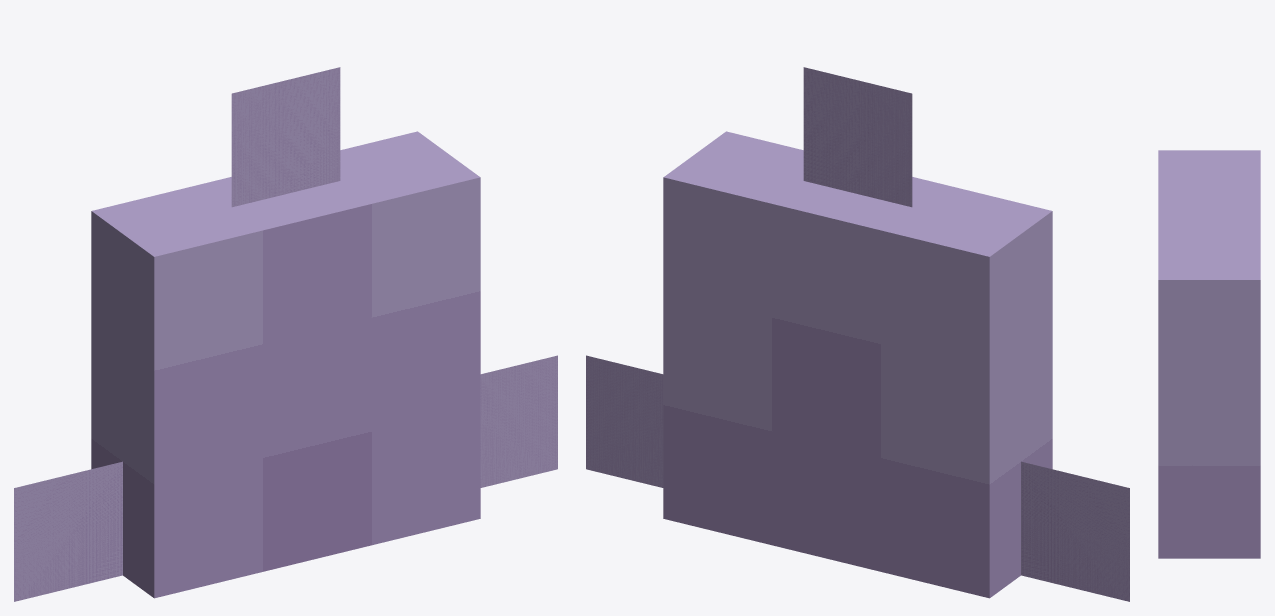
The model's file is ShellFragment.fbx.
3 views of the same model, side by side, from view 1: azimuth 30°, elevation 25°; view 2: azimuth 150°, elevation 25°; view 3: azimuth 270°, elevation 25° (orthographic). The views are drawn at different scales.
Parts seen in each view (by area): view 1: fragment, fragment_1; view 2: fragment, fragment_1; view 3: fragment.
Boxes of the visible parts, left/top/right/bottom form: fragment: left=91, top=131, right=480, bottom=598; fragment_1: left=14, top=67, right=557, bottom=601; fragment: left=663, top=131, right=1052, bottom=598; fragment_1: left=586, top=67, right=1129, bottom=601; fragment: left=1158, top=150, right=1260, bottom=558.
Bounding box in the file's own units: 15.62 × 12.5 × 3.12.
1 material, 1 textured.
